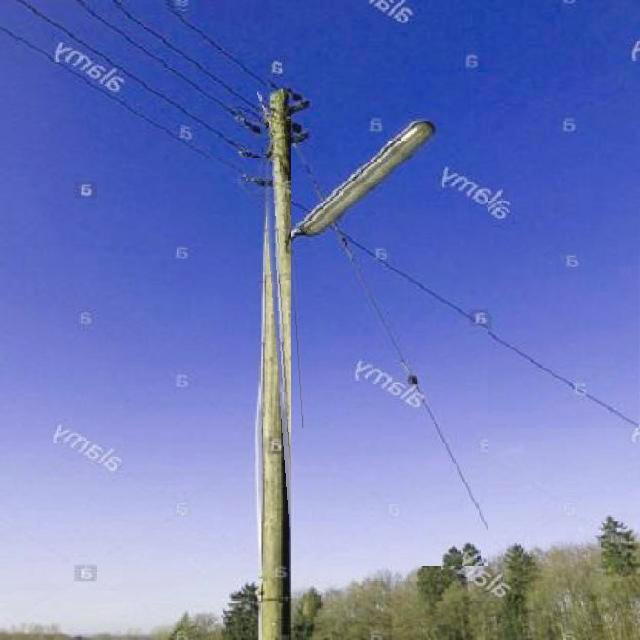crossarm: (288, 100, 308, 118), (288, 132, 310, 146)
pole: (271, 88, 291, 640)
wire: (288, 197, 639, 428), (294, 143, 488, 537), (17, 1, 260, 158), (76, 1, 267, 129), (112, 0, 257, 109), (164, 0, 278, 89)
